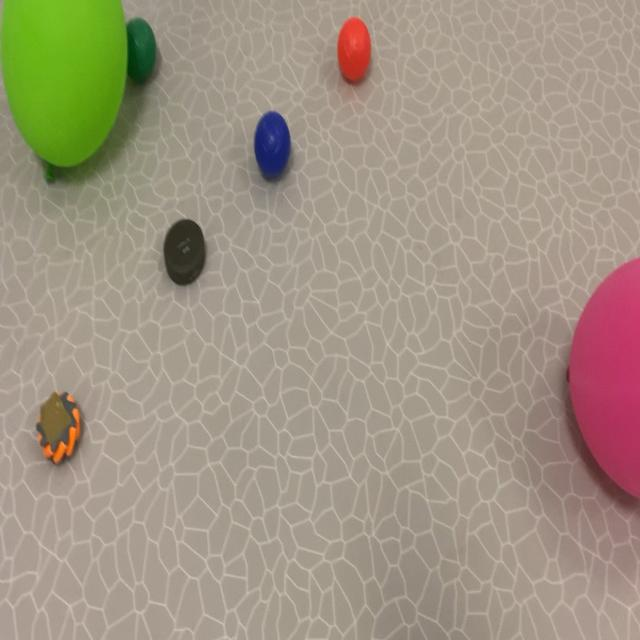7: (316, 15, 414, 156)
green ball: (222, 69, 327, 234)
red ball: (119, 0, 173, 151)
